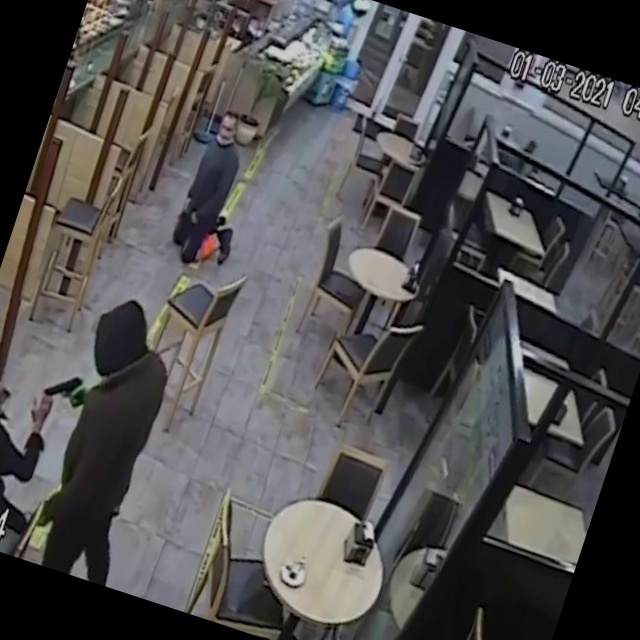gun: (23, 350, 101, 430)
